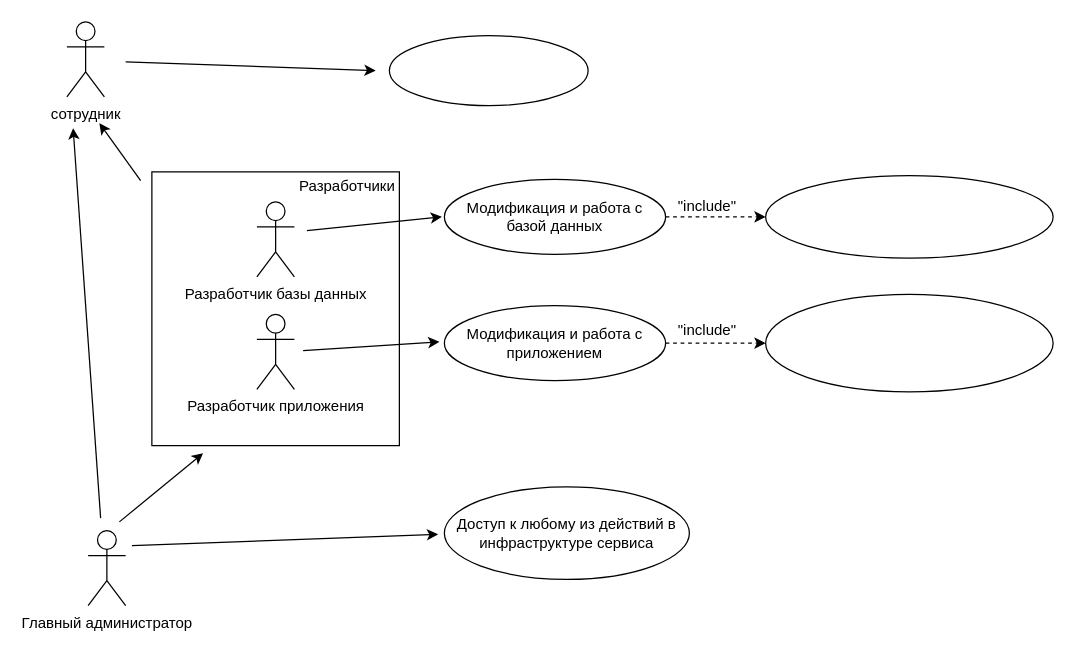
The diagram is 1075 pixels wide and 654 high, and some of its shapes have lost their labels. Here are the shapes that lost their labels. From the top down, the centre of each, then its label:
the point at 488,70: Просмотр данных
the point at 908,216: Добавление, редактирование и удаление данных
the point at 908,342: Добавление, редактирование и удаление возможностей приложения
